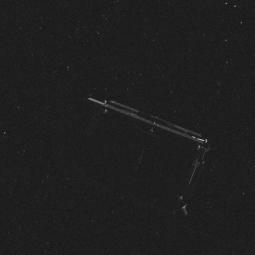proba_2: (70, 91, 209, 223)
